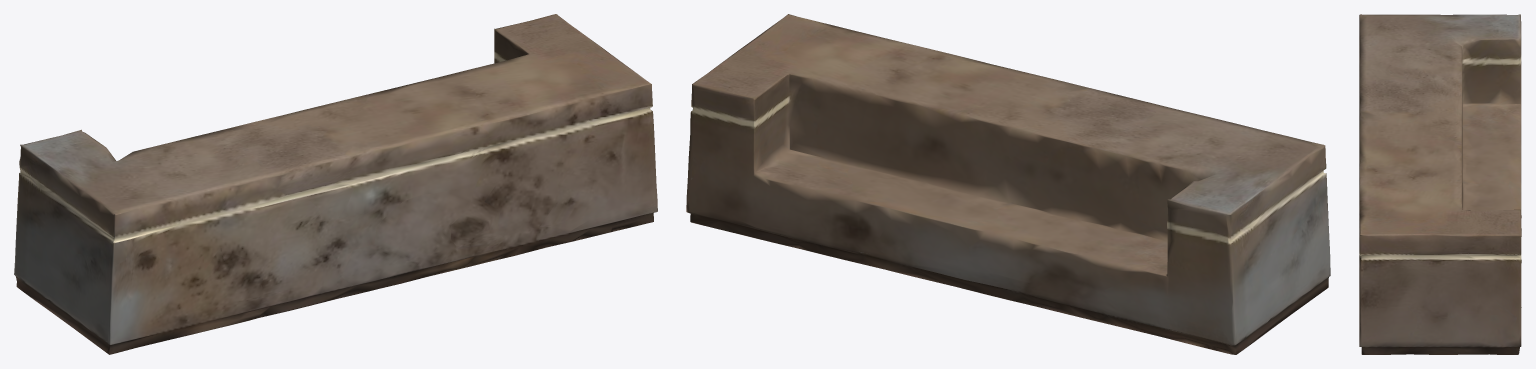
The model's file is meja_resepsionis.glb.
The picture shows the model from 3 angles, left to right: view 1: azimuth 30°, elevation 25°; view 2: azimuth 150°, elevation 25°; view 3: azimuth 270°, elevation 25°; orthographic projection. The views are drawn at different scales.
Parts seen in each view (by area): view 1: tripo_node_a61c3edd-67cc-4caf-b8a7-b2cf4428470e; view 2: tripo_node_a61c3edd-67cc-4caf-b8a7-b2cf4428470e; view 3: tripo_node_a61c3edd-67cc-4caf-b8a7-b2cf4428470e.
Boxes of the visible parts, x1,y1,x2,y2 form: tripo_node_a61c3edd-67cc-4caf-b8a7-b2cf4428470e: (14,14,657,354); tripo_node_a61c3edd-67cc-4caf-b8a7-b2cf4428470e: (686,14,1330,354); tripo_node_a61c3edd-67cc-4caf-b8a7-b2cf4428470e: (1359,14,1521,354).
Size of the model in its own units: 0.9386 by 0.2302 by 0.2848.
Materials: 1 (1 with a texture image).
